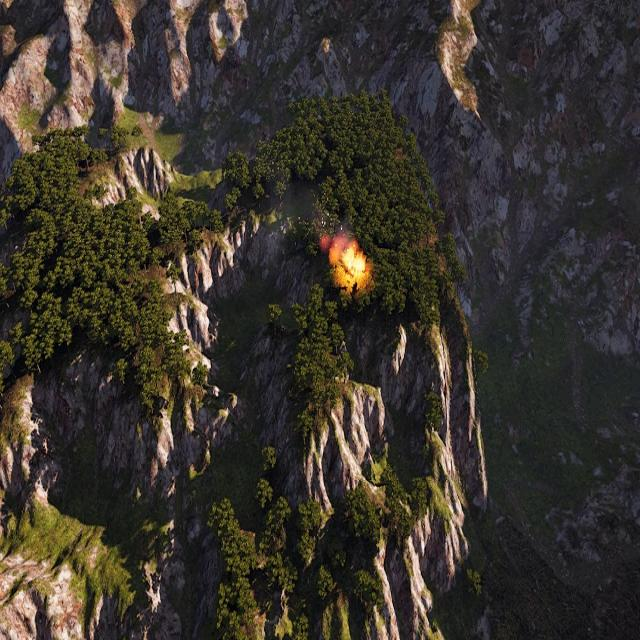fire: (339, 243, 367, 284)
smoke: (316, 212, 356, 264)
